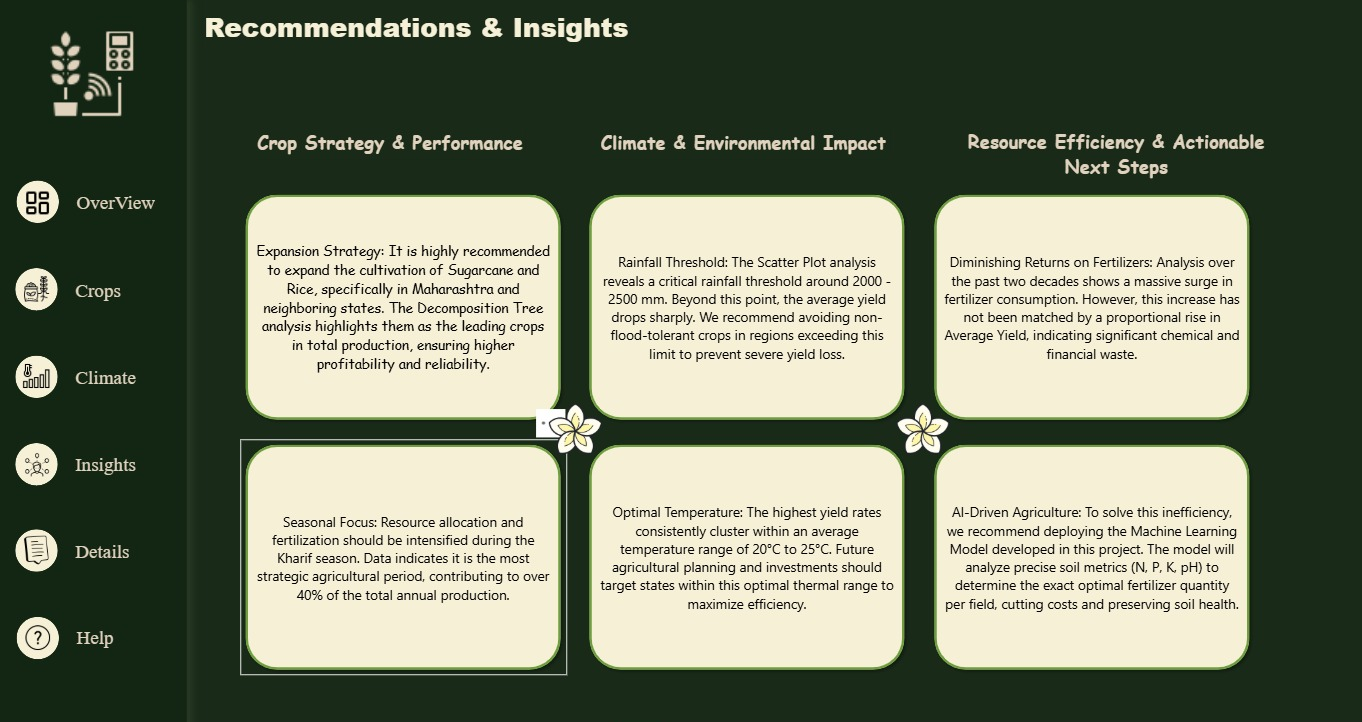

The dashboard page shown, as its layout file describes it:
{"tool":"powerbi","page":{"name":"Insights","canvas":[2275,1219],"ordinal":3},"visuals":[{"type":"shape","box":[0,0,312.5,1218.8],"z":0,"group":"g12"},{"type":"shape","box":[339.6,2.1,712.5,89.6],"z":0},{"type":"shape","box":[28.2,304.2,70.8,70.8],"z":0,"group":"g1"},{"type":"actionButton","box":[124.7,318.8,164,45],"z":0,"group":"g6"},{"type":"shape","box":[27.1,450.4,70.8,70.8],"z":0,"group":"g2"},{"type":"actionButton","box":[123.6,464.4,164,45],"z":0,"group":"g8"},{"type":"shape","box":[27.1,596.7,70.8,70.8],"z":0,"group":"g3"},{"type":"actionButton","box":[123.6,610.4,164,45],"z":0,"group":"g9"},{"type":"shape","box":[27.1,740.8,70.8,70.8],"z":0,"group":"g4"},{"type":"actionButton","box":[123.6,754.2,164,45],"z":0,"group":"g10"},{"type":"shape","box":[27.1,885,70.8,70.8],"z":0,"group":"g5"},{"type":"actionButton","box":[123.6,899.3,164,45],"z":0,"group":"g7"},{"type":"shape","box":[28.5,1031.2,70.8,70.8],"z":0,"group":"g11"},{"type":"image","box":[62.5,45.8,187.5,160.4],"z":1000,"group":"g12"},{"type":"group","id":"g1","title":"Dashboard B image","box":[28.2,304.2,70.8,70.8],"z":1000,"group":"g6"},{"type":"image","box":[35.6,318.8,54.2,45.8],"z":1000,"group":"g1"},{"type":"shape","box":[402,322.8,545,395],"z":1000},{"type":"group","id":"g2","title":"Crop B image","box":[27.1,450.4,70.8,70.8],"z":1000,"group":"g8"},{"type":"image","box":[34.5,462.2,54,45],"z":1000,"group":"g2"},{"type":"group","id":"g3","title":"Climate B image","box":[27.1,596.7,70.8,70.8],"z":1000,"group":"g9"},{"type":"image","box":[34.5,607.8,54,45.8],"z":1000,"group":"g3"},{"type":"group","id":"g4","title":"Insights B image","box":[27.1,740.8,70.8,70.8],"z":1000,"group":"g10"},{"type":"image","box":[34.5,753.3,56,48],"z":1000,"group":"g4"},{"type":"group","id":"g5","title":"Details B image","box":[27.1,885,70.8,70.8],"z":1000,"group":"g7"},{"type":"image","box":[27.1,891.2,70.8,56.2],"z":1000,"group":"g5"},{"type":"image","box":[35.9,1043.7,54,45],"z":1000,"group":"g11"},{"type":"group","id":"g6","title":"Dashboard","box":[28.2,304.2,260.5,70.8],"z":2000,"group":"g12"},{"type":"shape","box":[402,739.4,545,395],"z":2000},{"type":"actionButton","box":[124.3,1043.7,164,45],"z":2000,"group":"g11"},{"type":"shape","box":[1549.9,322.8,545,395],"z":3000},{"type":"group","id":"g7","title":"Details","box":[27.1,885,262.5,70.8],"z":3000,"group":"g12"},{"type":"group","id":"g8","title":"Crops","box":[27.1,450.4,262.5,70.8],"z":4000,"group":"g12"},{"type":"shape","box":[975.9,739.4,545,395],"z":4000},{"type":"group","id":"g9","title":"Climate","box":[27.1,596.7,262.5,68.8],"z":5000,"group":"g12"},{"type":"image","box":[1476.5,667.9,125.5,110.6],"z":5000},{"type":"shape","box":[975.9,322.8,545,395],"z":6000},{"type":"group","id":"g10","title":"Insights","box":[27.1,740.8,262.5,68.8],"z":6000,"group":"g12"},{"type":"shape","box":[1549.9,739.4,545,395],"z":7000},{"type":"group","id":"g11","title":"Help B image","box":[28.5,1031.2,259.8,70.8],"z":7000,"group":"g12"},{"type":"shape","box":[427.1,197.4,470.8,58.3],"z":8000},{"type":"shape","box":[995.8,197.4,504.2,58.3],"z":9000},{"type":"shape","box":[1602.1,197.4,520.8,95.8],"z":10000},{"type":"image","box":[897.8,667.9,125.5,110.6],"z":11000},{"type":"group","id":"g12","title":"Side bar","box":[0,0,312.5,1218.8],"z":12000}]}

Visuals, with their boxes in screenshot pixels (x1, y1, x2, y2), scaled from the page's 2275x1219 canvas onto the 1362x722 screenshot:
shape: bbox=[0, 0, 187, 721]
shape: bbox=[203, 1, 630, 54]
shape: bbox=[17, 180, 59, 222]
actionButton: bbox=[75, 189, 173, 215]
shape: bbox=[16, 267, 59, 309]
actionButton: bbox=[74, 275, 172, 302]
shape: bbox=[16, 353, 59, 395]
actionButton: bbox=[74, 362, 172, 388]
shape: bbox=[16, 439, 59, 481]
actionButton: bbox=[74, 447, 172, 473]
shape: bbox=[16, 524, 59, 566]
actionButton: bbox=[74, 533, 172, 559]
shape: bbox=[17, 611, 59, 653]
image: bbox=[37, 27, 150, 122]
"Dashboard B image" group: bbox=[17, 180, 59, 222]
image: bbox=[21, 189, 54, 216]
shape: bbox=[241, 191, 567, 425]
"Crop B image" group: bbox=[16, 267, 59, 309]
image: bbox=[21, 274, 53, 300]
"Climate B image" group: bbox=[16, 353, 59, 395]
image: bbox=[21, 360, 53, 387]
"Insights B image" group: bbox=[16, 439, 59, 481]
image: bbox=[21, 446, 54, 475]
"Details B image" group: bbox=[16, 524, 59, 566]
image: bbox=[16, 528, 59, 561]
image: bbox=[21, 618, 54, 645]
"Dashboard" group: bbox=[17, 180, 173, 222]
shape: bbox=[241, 438, 567, 672]
actionButton: bbox=[74, 618, 173, 645]
shape: bbox=[928, 191, 1254, 425]
"Details" group: bbox=[16, 524, 173, 566]
"Crops" group: bbox=[16, 267, 173, 309]
shape: bbox=[584, 438, 911, 672]
"Climate" group: bbox=[16, 353, 173, 394]
image: bbox=[884, 396, 959, 461]
shape: bbox=[584, 191, 911, 425]
"Insights" group: bbox=[16, 439, 173, 480]
shape: bbox=[928, 438, 1254, 672]
"Help B image" group: bbox=[17, 611, 173, 653]
shape: bbox=[256, 117, 538, 151]
shape: bbox=[596, 117, 898, 151]
shape: bbox=[959, 117, 1271, 174]
image: bbox=[537, 396, 613, 461]
"Side bar" group: bbox=[0, 0, 187, 721]
